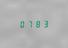eight: (34, 19, 41, 27)
seven: (26, 20, 33, 28)
three: (42, 19, 49, 27)
zero: (18, 20, 25, 28)
